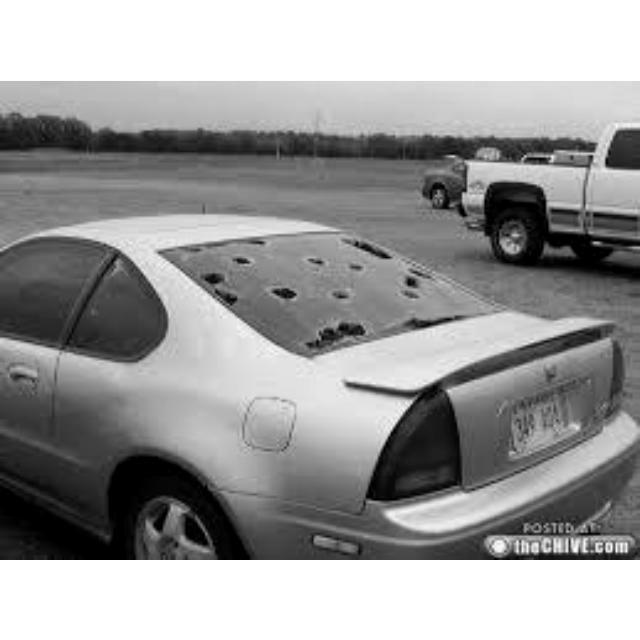Rear-windscreen-Damage: (220, 227, 472, 360)
